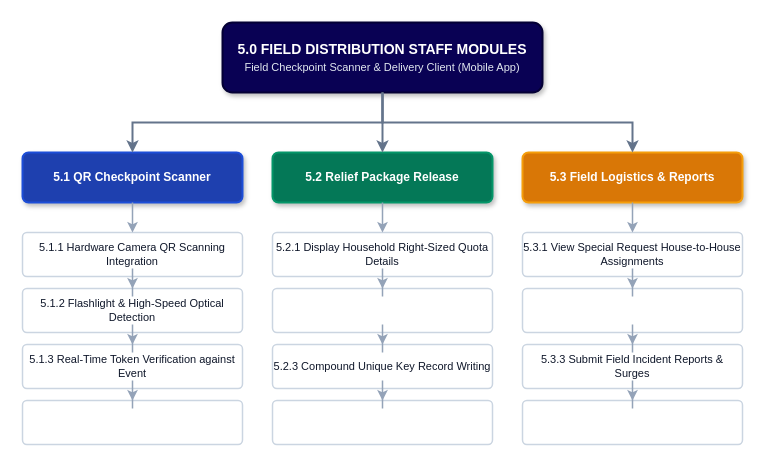
The diagram is 766 pixels wide and 462 high, and some of its shapes have lost their labels. Each missing label, with the centre of its shape:
5.1.4 Duplicate Claim Anti-Fraud Audio/Visual Blocker: the point at 132,422
5.2.2 Confirm Package Release with 1-Tap Button: the point at 382,310
5.2.4 Auto-Sync Offline Transactions to Server: the point at 382,422
5.3.2 Mark Offline Elderly/PWD Deliveries Complete: the point at 632,310
5.3.4 Live Socket.IO Field Sync with Command Center: the point at 632,422
